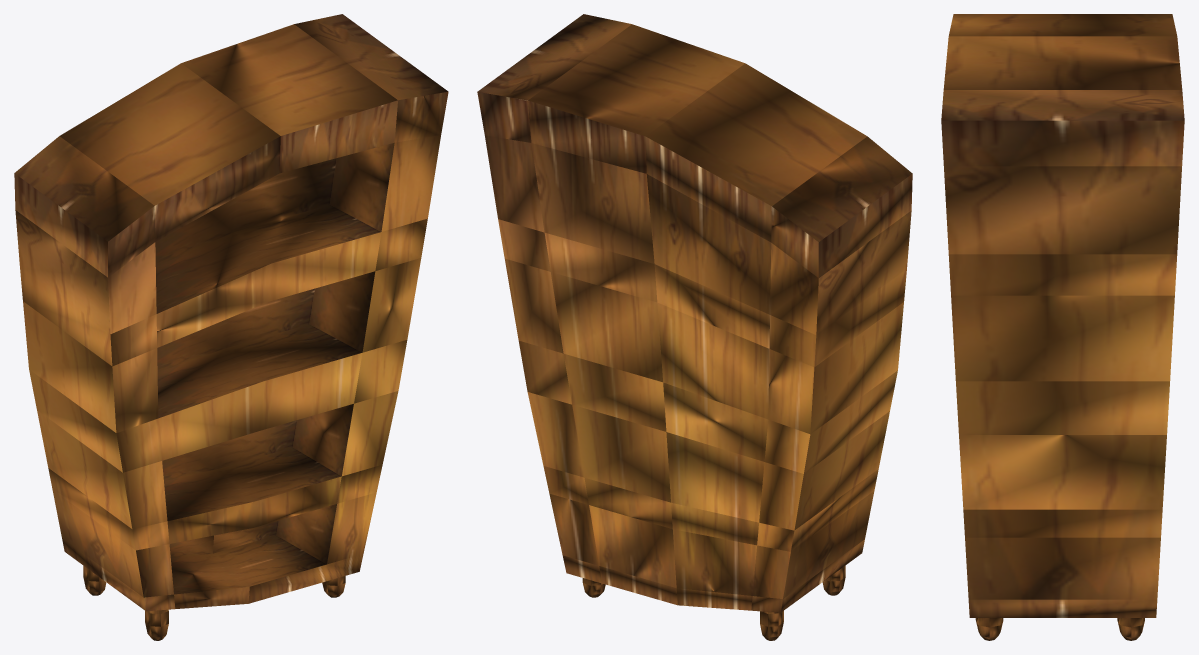
The model's file is bookshelf.fbx.
The picture shows the model from 3 angles, left to right: view 1: azimuth 30°, elevation 25°; view 2: azimuth 150°, elevation 25°; view 3: azimuth 270°, elevation 25°; orthographic projection. The views are drawn at different scales.
Visible parts, largest first — view 1: polySurface5; view 2: polySurface5; view 3: polySurface5.
Part boxes in pixels (box(x1,y1,x2,y2)): polySurface5: box(14, 14, 448, 640); polySurface5: box(477, 14, 912, 640); polySurface5: box(941, 14, 1184, 640).
Size of the model in its own units: 9.3 by 13.27 by 5.11.
Materials: 1 (1 with a texture image).
